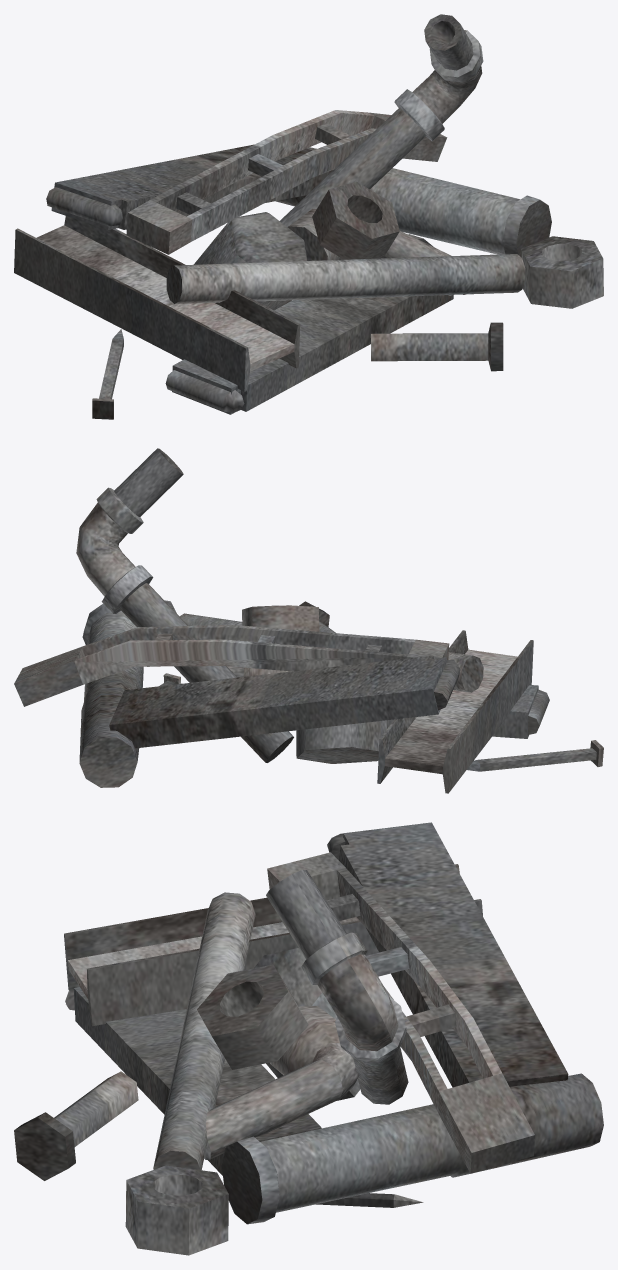
Rendered from metal_scrap_model.fbx.
3 views of the same model, one above another, from view 1: azimuth 30°, elevation 25°; view 2: azimuth 150°, elevation 25°; view 3: azimuth 270°, elevation 25° (orthographic). The views are drawn at different scales.
Visible parts, largest first — view 1: defaultMaterial; view 2: defaultMaterial; view 3: defaultMaterial.
Boxes of the visible parts, box(x1,y1,x2,y2) form: defaultMaterial: box(14, 14, 603, 419); defaultMaterial: box(14, 448, 603, 793); defaultMaterial: box(14, 822, 603, 1255).
Bounding box in the file's own units: 4.05 × 3.25 × 2.11.
1 material, 1 textured.
